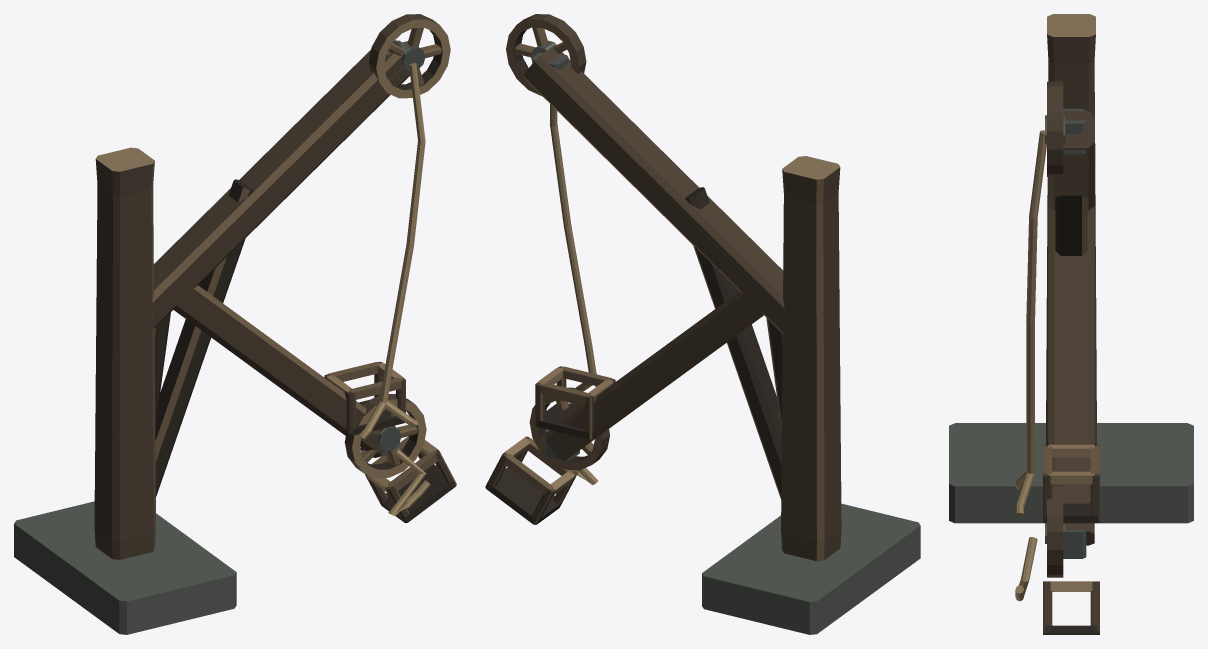
The model's file is i08_abandoned_cargo_crane.glb.
3 renders of one model, left to right at view 1: azimuth 30°, elevation 25°; view 2: azimuth 150°, elevation 25°; view 3: azimuth 270°, elevation 25°, orthographic. The views are drawn at different scales.
Parts seen in each view (by area): view 1: I08_Broken_AbandonedCargoCrane_UprightMast, I08_Broken_AbandonedCargoCrane_StonePlinth, I08_Intact_MainDiagonalBoom, I08_Broken_FallenUpperBoom, I08_Intact_AbandonedCargoCrane_MainSupportBrace, I08_Intact_SlackHoistAndSlings, I08_Broken_EmptyBasketFrame, I08_Intact_Pulley_WheelRim, I08_Intact_EmptyBasketFrame, I08_Broken_Pulley_WheelRim, I08_Broken_AbandonedCargoCrane_MainSupportBrace, I08_Broken_SlackFallenRopes (+1 smaller); view 2: I08_Broken_AbandonedCargoCrane_UprightMast, I08_Broken_AbandonedCargoCrane_StonePlinth, I08_Intact_MainDiagonalBoom, I08_Broken_FallenUpperBoom, I08_Intact_AbandonedCargoCrane_MainSupportBrace, I08_Broken_EmptyBasketFrame, I08_Intact_EmptyBasketFrame, I08_Intact_SlackHoistAndSlings, I08_Intact_Pulley_WheelRim, I08_Broken_Pulley_WheelRim, I08_Broken_AbandonedCargoCrane_MainSupportBrace, I08_Broken_BoomStump; view 3: I08_Broken_AbandonedCargoCrane_StonePlinth, I08_Broken_FallenUpperBoom, I08_Broken_AbandonedCargoCrane_UprightMast, I08_Intact_SlackHoistAndSlings, I08_Intact_EmptyBasketFrame, I08_Intact_MainDiagonalBoom, I08_Intact_AbandonedCargoCrane_MainSupportBrace, I08_Broken_EmptyBasketFrame, I08_Intact_Pulley_WheelRim, I08_Broken_Pulley_WheelRim, I08_Broken_PulleyBracket, I08_Broken_SlackFallenRopes (+1 smaller).
Boxes of the visible parts, x1,y1,x2,y2 form: I08_Broken_AbandonedCargoCrane_UprightMast: (94, 147, 155, 559); I08_Broken_AbandonedCargoCrane_StonePlinth: (14, 501, 236, 634); I08_Intact_MainDiagonalBoom: (152, 41, 410, 327); I08_Broken_FallenUpperBoom: (166, 285, 384, 457); I08_Intact_AbandonedCargoCrane_MainSupportBrace: (155, 179, 253, 496); I08_Intact_SlackHoistAndSlings: (359, 62, 425, 439); I08_Broken_EmptyBasketFrame: (364, 436, 456, 523); I08_Intact_Pulley_WheelRim: (369, 14, 450, 98); I08_Intact_EmptyBasketFrame: (324, 361, 405, 435); I08_Broken_Pulley_WheelRim: (344, 393, 426, 478); I08_Broken_AbandonedCargoCrane_MainSupportBrace: (154, 312, 170, 427); I08_Broken_SlackFallenRopes: (388, 448, 430, 515); I08_Broken_AbandonedCargoCrane_UprightMast: (781, 156, 841, 561); I08_Broken_AbandonedCargoCrane_StonePlinth: (702, 503, 920, 634); I08_Intact_MainDiagonalBoom: (523, 45, 784, 333); I08_Broken_FallenUpperBoom: (545, 291, 768, 460); I08_Intact_AbandonedCargoCrane_MainSupportBrace: (685, 187, 781, 499); I08_Broken_EmptyBasketFrame: (485, 436, 576, 524); I08_Intact_EmptyBasketFrame: (535, 366, 615, 439); I08_Intact_SlackHoistAndSlings: (550, 104, 596, 391); I08_Intact_Pulley_WheelRim: (506, 14, 586, 96); I08_Broken_Pulley_WheelRim: (529, 387, 609, 470); I08_Broken_AbandonedCargoCrane_MainSupportBrace: (766, 318, 782, 432); I08_Broken_BoomStump: (757, 286, 784, 333); I08_Broken_AbandonedCargoCrane_StonePlinth: (949, 423, 1193, 523); I08_Broken_FallenUpperBoom: (1048, 206, 1094, 545); I08_Broken_AbandonedCargoCrane_UprightMast: (1046, 14, 1096, 445); I08_Intact_SlackHoistAndSlings: (1015, 130, 1046, 516); I08_Intact_EmptyBasketFrame: (1043, 444, 1099, 523); I08_Intact_MainDiagonalBoom: (1048, 110, 1094, 210); I08_Intact_AbandonedCargoCrane_MainSupportBrace: (1055, 195, 1087, 255); I08_Broken_EmptyBasketFrame: (1043, 581, 1099, 634); I08_Intact_Pulley_WheelRim: (1047, 81, 1063, 176); I08_Broken_Pulley_WheelRim: (1047, 484, 1063, 577); I08_Broken_PulleyBracket: (1063, 530, 1086, 558); I08_Broken_SlackFallenRopes: (1015, 537, 1037, 601).
Size of the model in its own units: 3.55 by 4.5 by 1.8.
